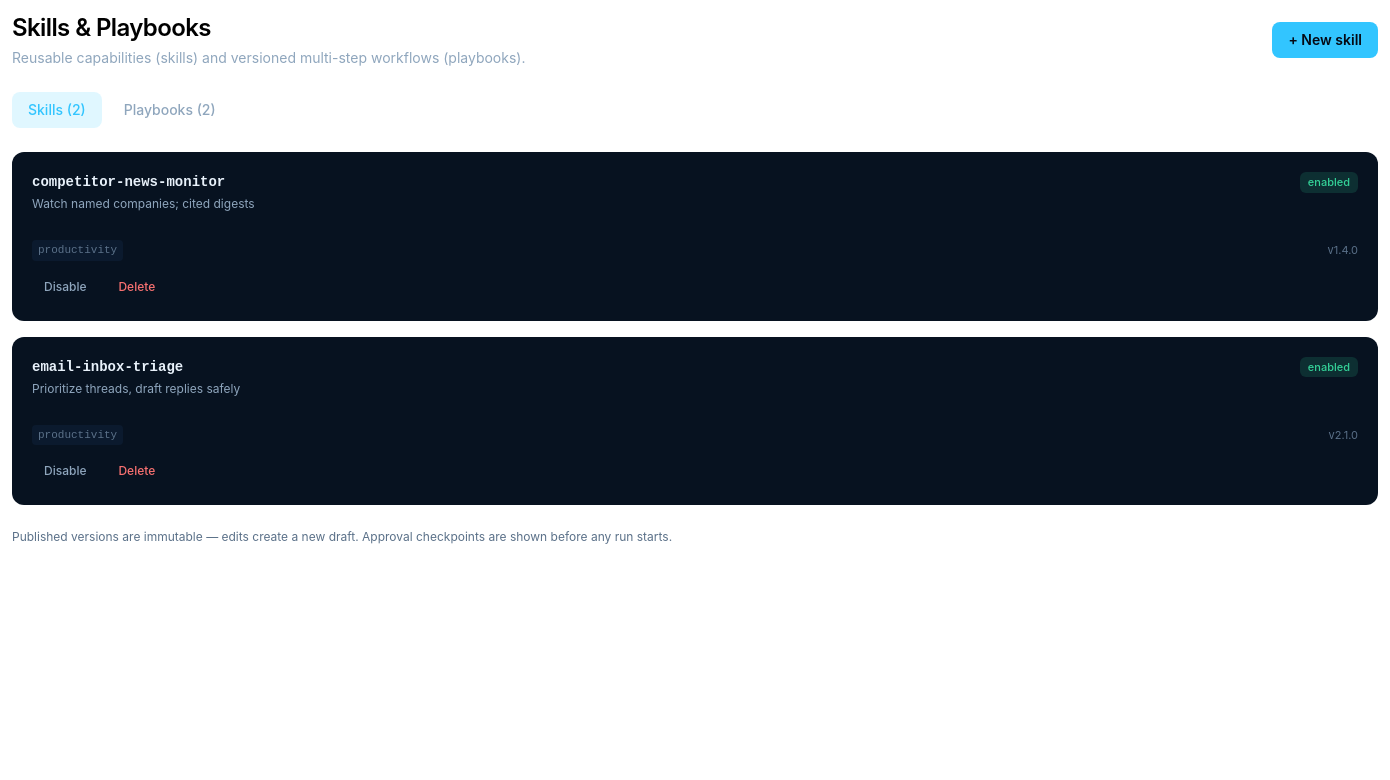
Skills page › renders runtime skills in the skills tab and fixture playbooks in the playbooks tab
The width and height of the screenshot is (1390, 780).
Expected: the text "competitor-news-monitor" is shown, [32, 172, 255, 192]
Playbooks tab: fixture playbook appears
Click the tab "Playbooks (2)" at {"x": 170, "y": 110}, box [108, 92, 232, 128]
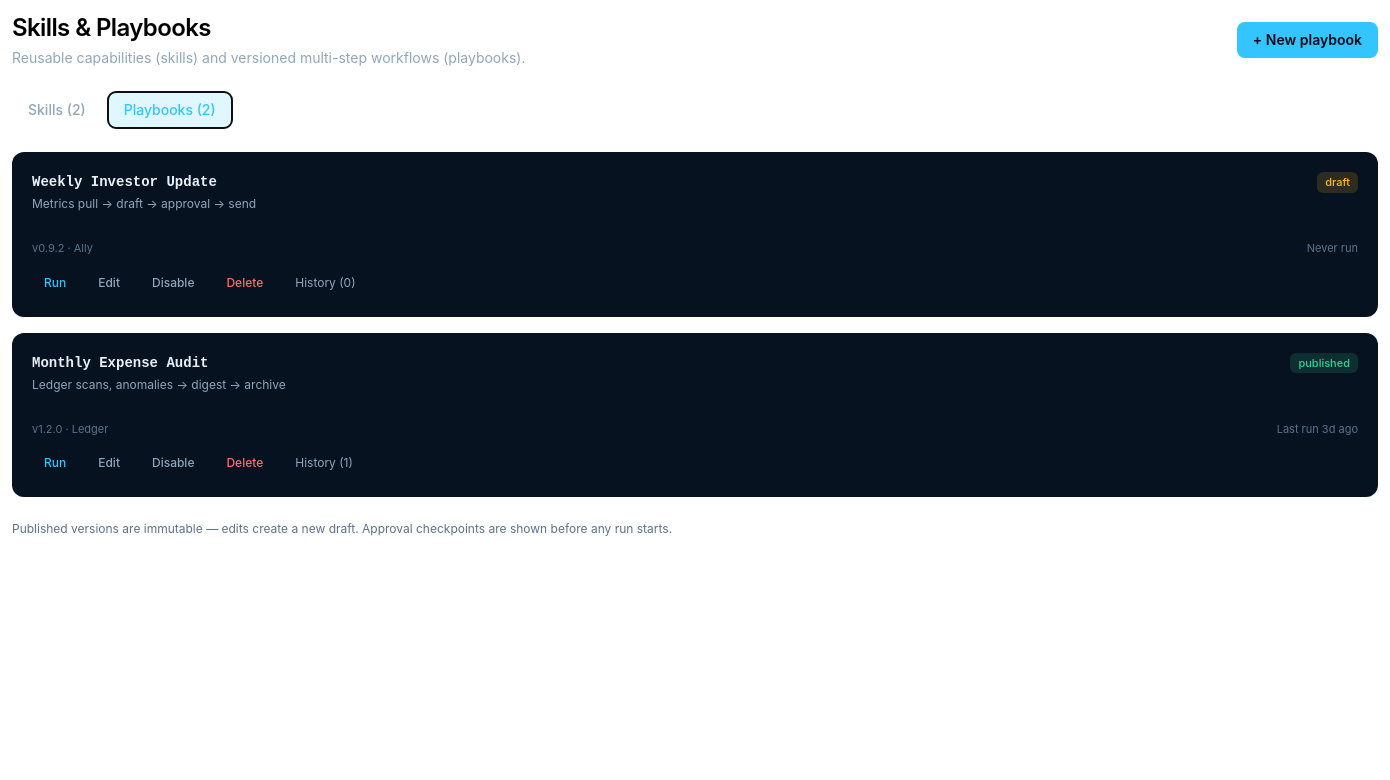
Now the text "Weekly Investor Update" is shown, box [32, 174, 217, 190]
Now the text "competitor-news-monitor" is gone
